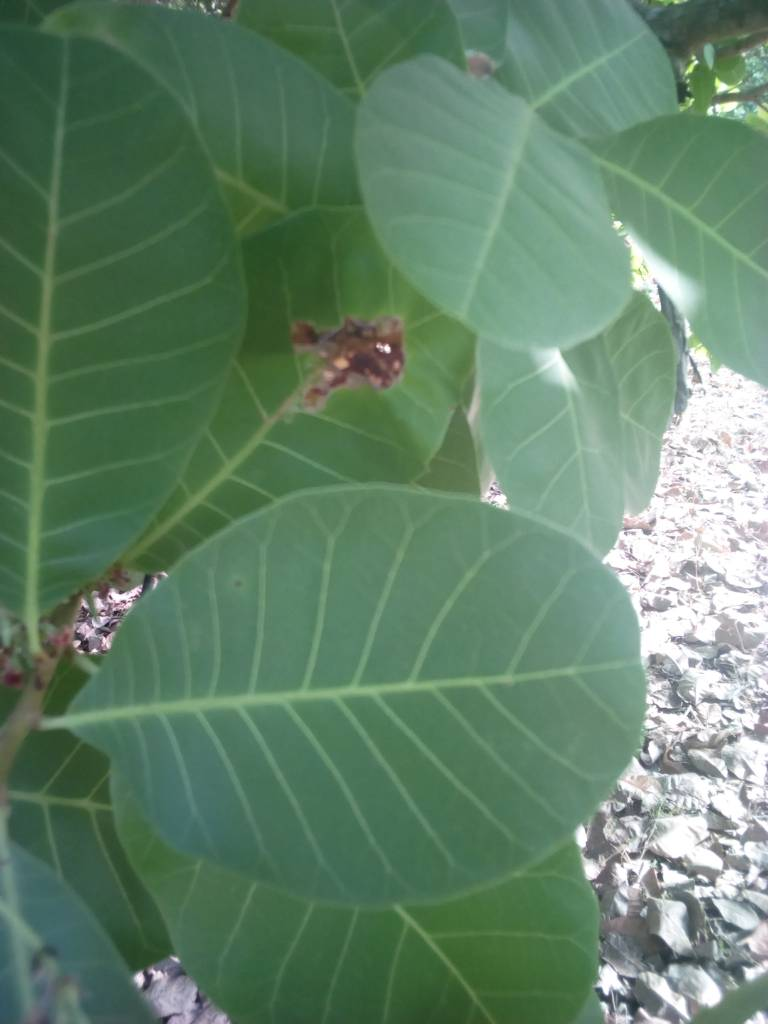Dysdercus wolkerii: (194, 194, 494, 599)
